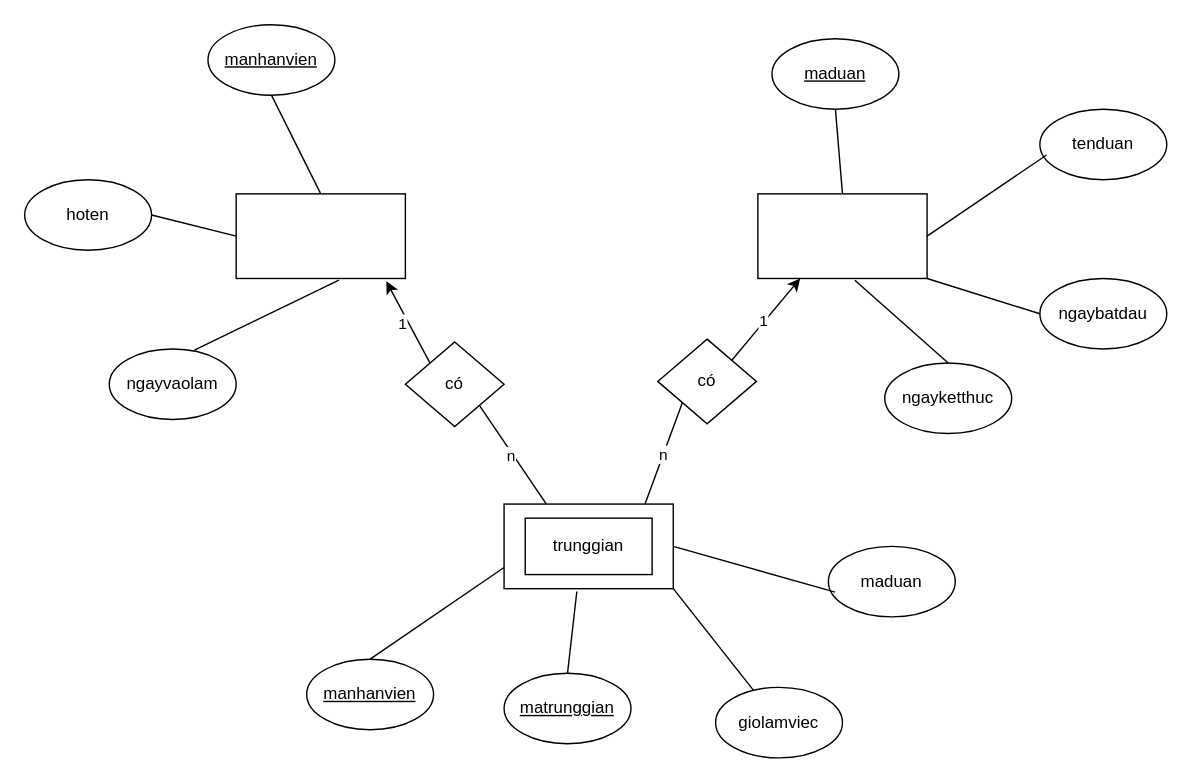
Some shapes in this 1191 by 783 pixel diagram are drawn without their labels. Each missing label, with the centre of its shape:
duan: pixel 841 235
nhanvien: pixel 320 235
